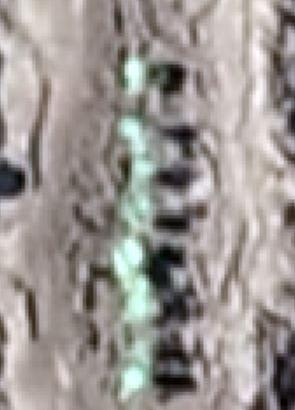cotton: (124, 57, 165, 87), (113, 254, 148, 283), (121, 194, 155, 223), (125, 289, 156, 318), (122, 236, 149, 268), (130, 151, 157, 179), (120, 368, 153, 388), (121, 115, 145, 139), (141, 342, 154, 361)
